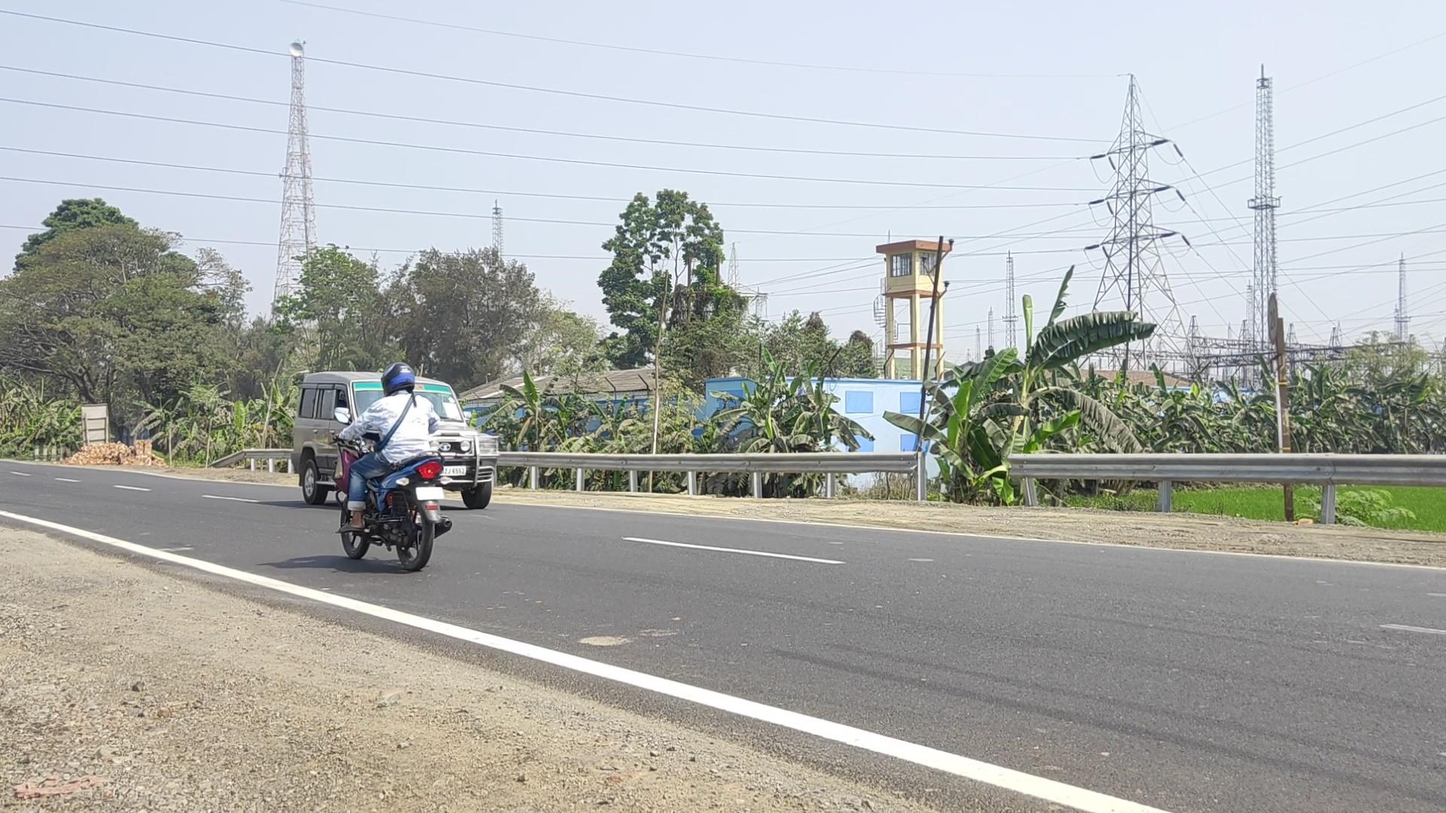bike: (332, 362, 453, 572)
car: (293, 370, 499, 508)
